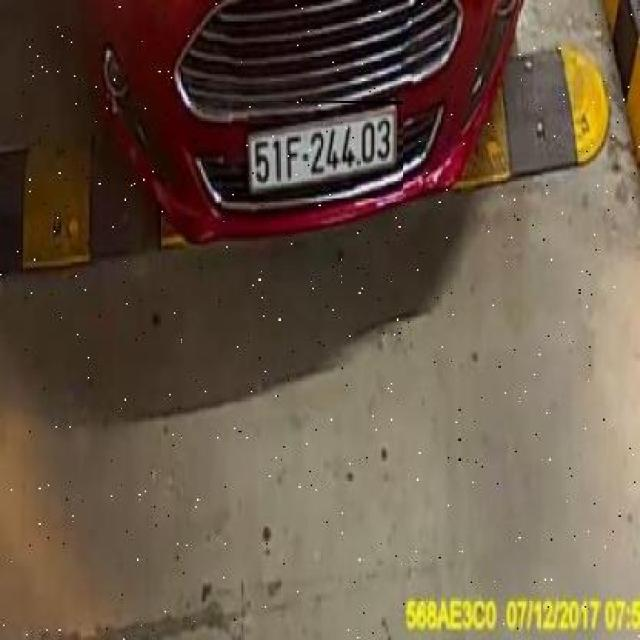number_plate: (243, 100, 403, 198)
